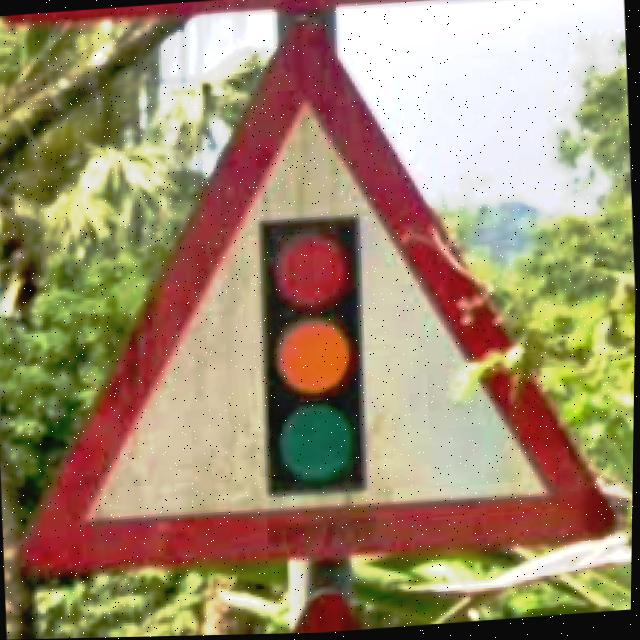signalahead: (24, 26, 615, 574)
